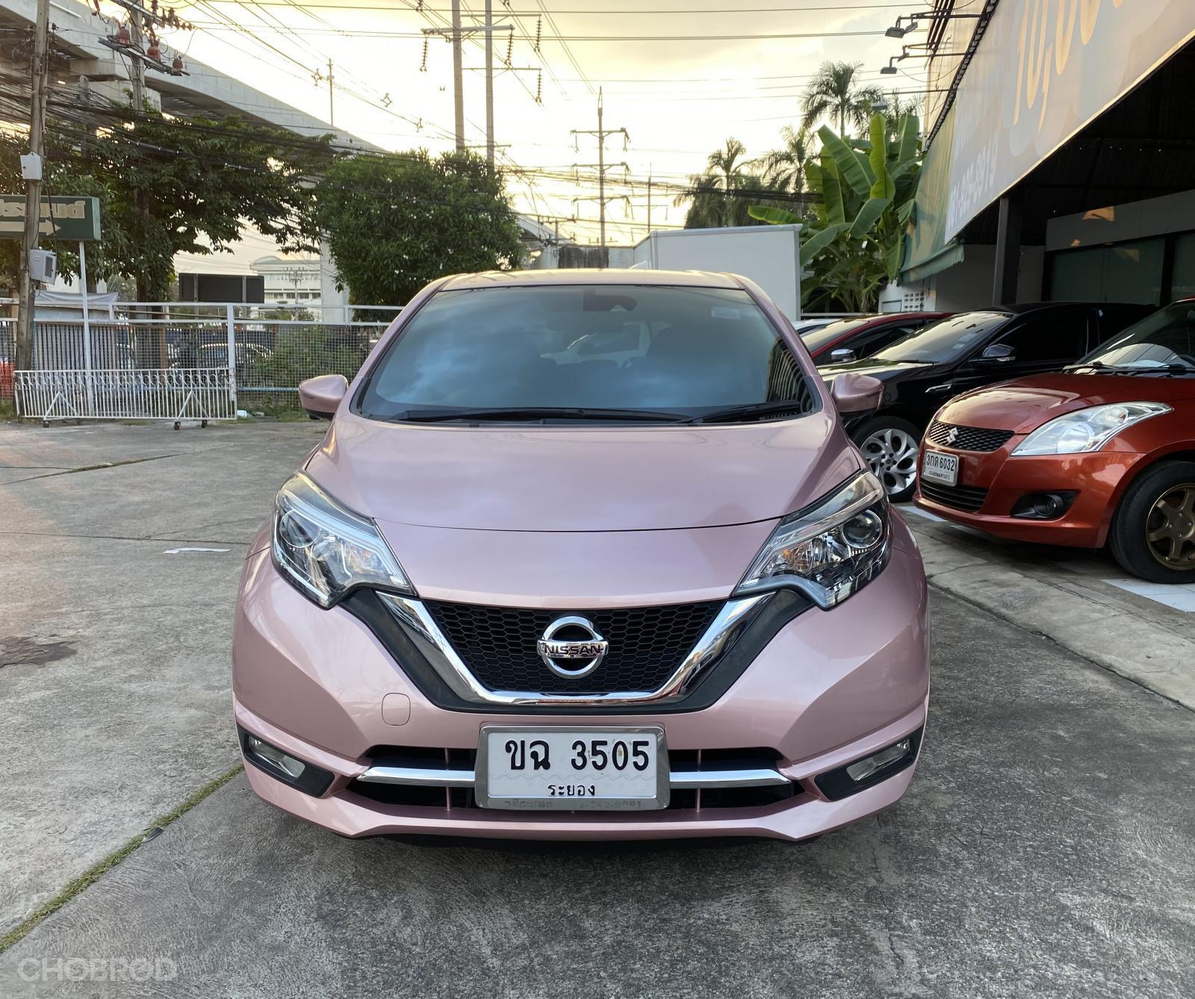license-plate: (468, 717, 677, 818)
